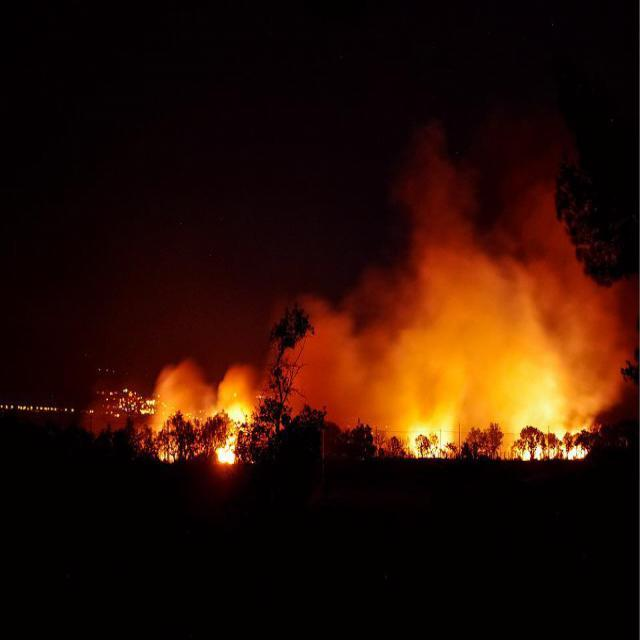Fire: (503, 374, 602, 468), (397, 392, 464, 466), (215, 387, 254, 467), (152, 398, 192, 468)
